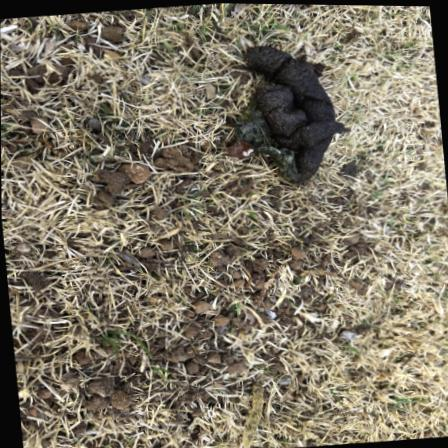dog-poop: (228, 24, 357, 200)
